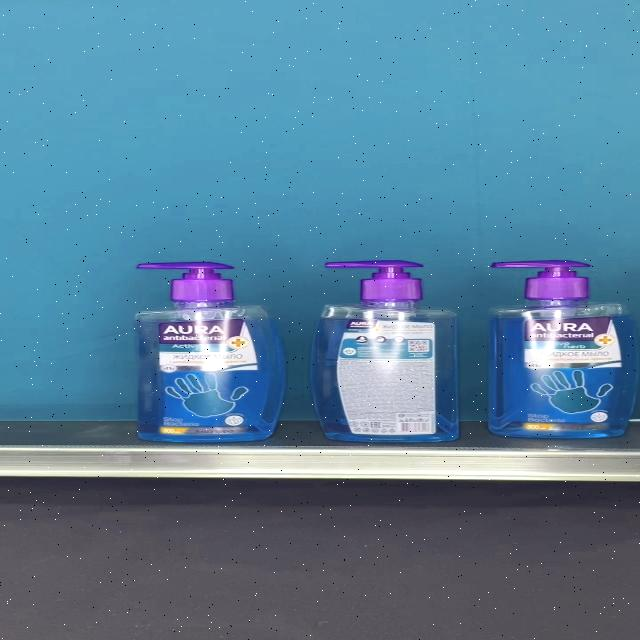Bottle: (134, 261, 286, 442), (486, 260, 640, 438), (311, 259, 459, 442)
Cap: (325, 259, 423, 301), (491, 260, 591, 300), (137, 261, 235, 301)
